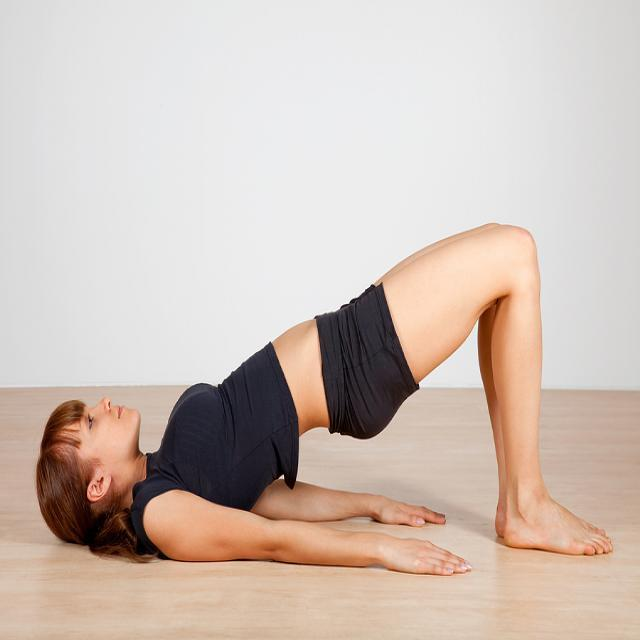yoga-pose bridge: (42, 218, 616, 568)
